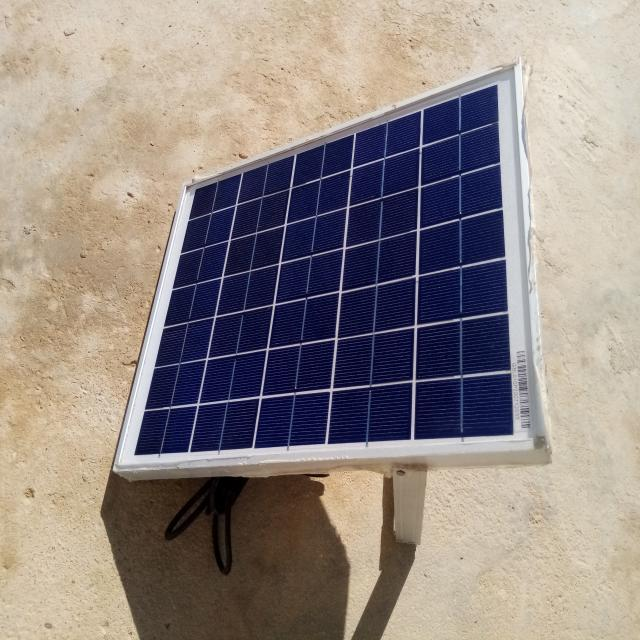no faulty: (114, 66, 548, 466)
